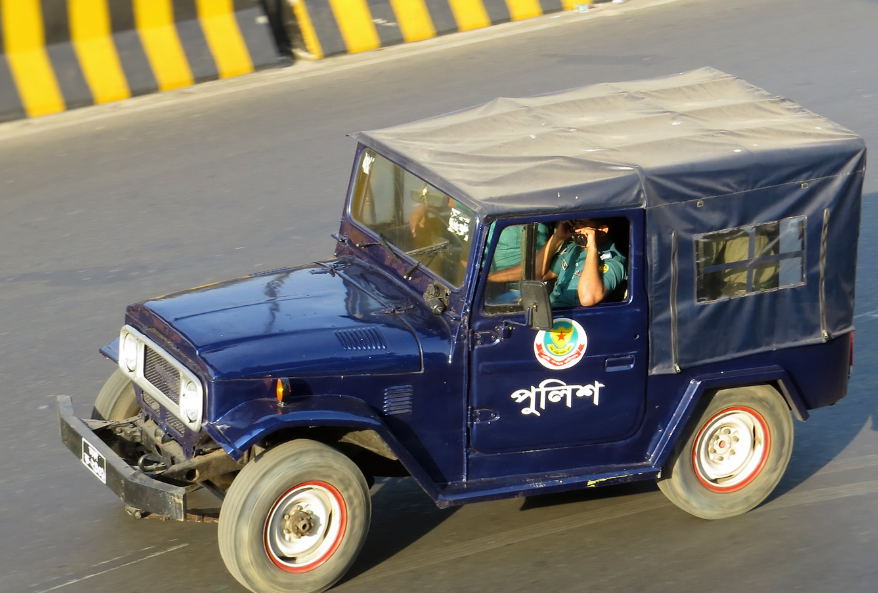Police cars: (50, 71, 869, 593)
